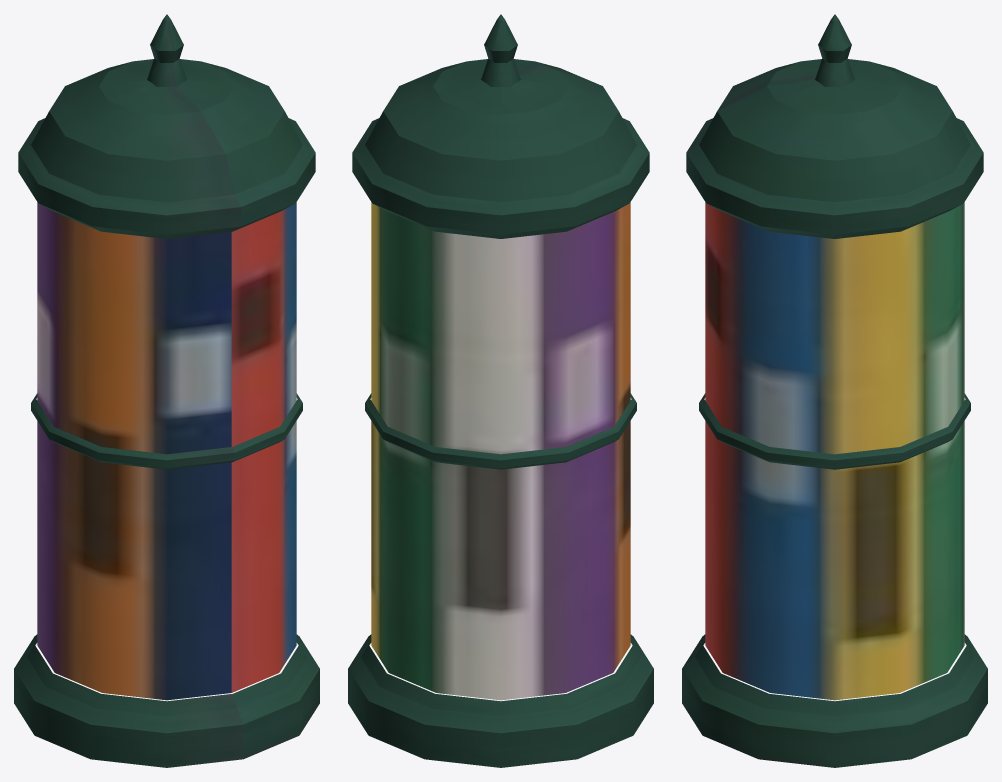
Rendered from colonne_morris_lod1.glb.
3 views of the same model, side by side, from view 1: azimuth 30°, elevation 25°; view 2: azimuth 150°, elevation 25°; view 3: azimuth 270°, elevation 25° (orthographic).
Visible parts, largest first — view 1: colonne_morris; view 2: colonne_morris; view 3: colonne_morris.
Part boxes in pixels (x1,y1,x2,y2): colonne_morris: (14,14,319,767); colonne_morris: (348,14,653,767); colonne_morris: (682,14,987,767).
Size of the model in its own units: 1.44 by 3.58 by 1.44.
Materials: 1 (1 with a texture image).
